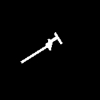double_crochet: (21, 33, 61, 62)
